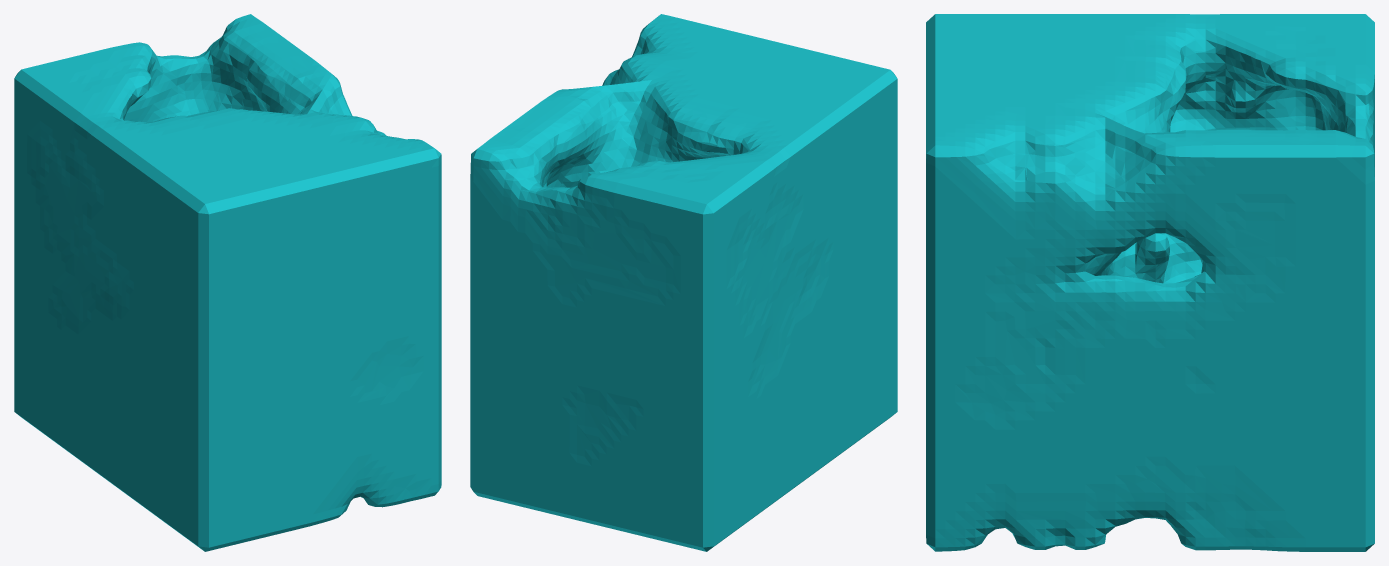
3 views of the same model, side by side, from view 1: azimuth 30°, elevation 25°; view 2: azimuth 150°, elevation 25°; view 3: azimuth 270°, elevation 25° (orthographic). The views are drawn at different scales.
Parts seen in each view (by area): view 1: Liquid_Domain; view 2: Liquid_Domain; view 3: Liquid_Domain.
Part boxes in pixels (x1,y1,x2,y2): Liquid_Domain: (14, 14, 441, 551); Liquid_Domain: (470, 14, 897, 551); Liquid_Domain: (926, 14, 1374, 551).
Bounding box in the file's own units: 79.09 × 108 × 108.
